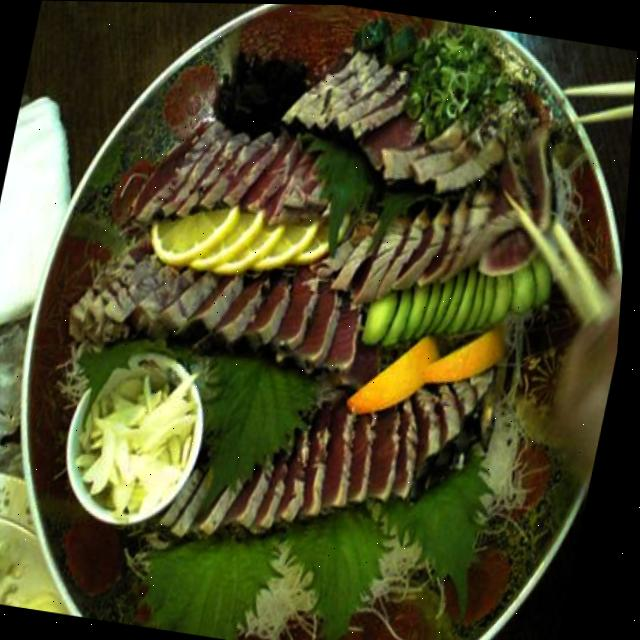熟制海鲜: (0, 0, 629, 610)
